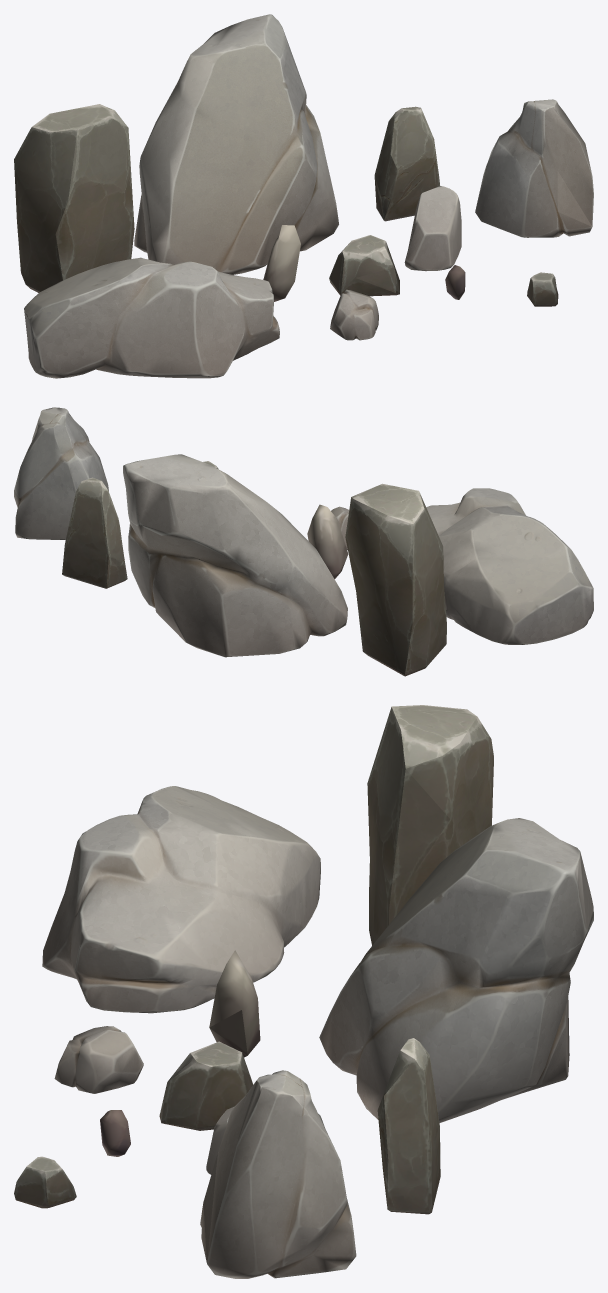
File: free-pack-rocks-stylized.glb
3 views of the same model, one above another, from view 1: azimuth 30°, elevation 25°; view 2: azimuth 150°, elevation 25°; view 3: azimuth 270°, elevation 25° (orthographic). The views are drawn at different scales.
Parts seen in each view (by area): view 1: SM_Rocks_04, SM_Rocks_03, SM_Rocks_09, SM_Rocks_05, SM_Rocks_08, SM_Rocks_02, SM_Rocks_07, SM_Rocks_01, SM_Rocks_11, SM_Rocks_06, SM_Rocks_10; view 2: SM_Rocks_04, SM_Rocks_03, SM_Rocks_09, SM_Rocks_05, SM_Rocks_08, SM_Rocks_11; view 3: SM_Rocks_04, SM_Rocks_03, SM_Rocks_05, SM_Rocks_09, SM_Rocks_08, SM_Rocks_07, SM_Rocks_01, SM_Rocks_11, SM_Rocks_06, SM_Rocks_10.
Part boxes in pixels (x1,y1,x2,y2): SM_Rocks_04: [134, 14, 338, 274]; SM_Rocks_03: [24, 257, 279, 378]; SM_Rocks_09: [14, 104, 134, 292]; SM_Rocks_05: [475, 99, 593, 237]; SM_Rocks_08: [374, 106, 439, 221]; SM_Rocks_02: [404, 186, 461, 271]; SM_Rocks_07: [329, 235, 399, 296]; SM_Rocks_01: [330, 289, 378, 340]; SM_Rocks_11: [263, 225, 300, 301]; SM_Rocks_06: [527, 272, 558, 306]; SM_Rocks_10: [445, 265, 465, 299]; SM_Rocks_04: [123, 454, 347, 657]; SM_Rocks_03: [426, 488, 593, 644]; SM_Rocks_09: [345, 483, 446, 676]; SM_Rocks_05: [14, 407, 108, 539]; SM_Rocks_08: [62, 477, 127, 588]; SM_Rocks_11: [307, 504, 348, 578]; SM_Rocks_04: [319, 818, 593, 1122]; SM_Rocks_03: [42, 786, 320, 1013]; SM_Rocks_05: [200, 1070, 356, 1278]; SM_Rocks_09: [367, 705, 493, 945]; SM_Rocks_08: [377, 1038, 440, 1214]; SM_Rocks_07: [159, 1041, 253, 1130]; SM_Rocks_01: [54, 1026, 143, 1093]; SM_Rocks_11: [209, 950, 260, 1057]; SM_Rocks_06: [14, 1156, 76, 1208]; SM_Rocks_10: [100, 1110, 130, 1156].
Bounding box in the file's own units: 5.59 × 1.7 × 3.35.
1 material, 1 textured.
